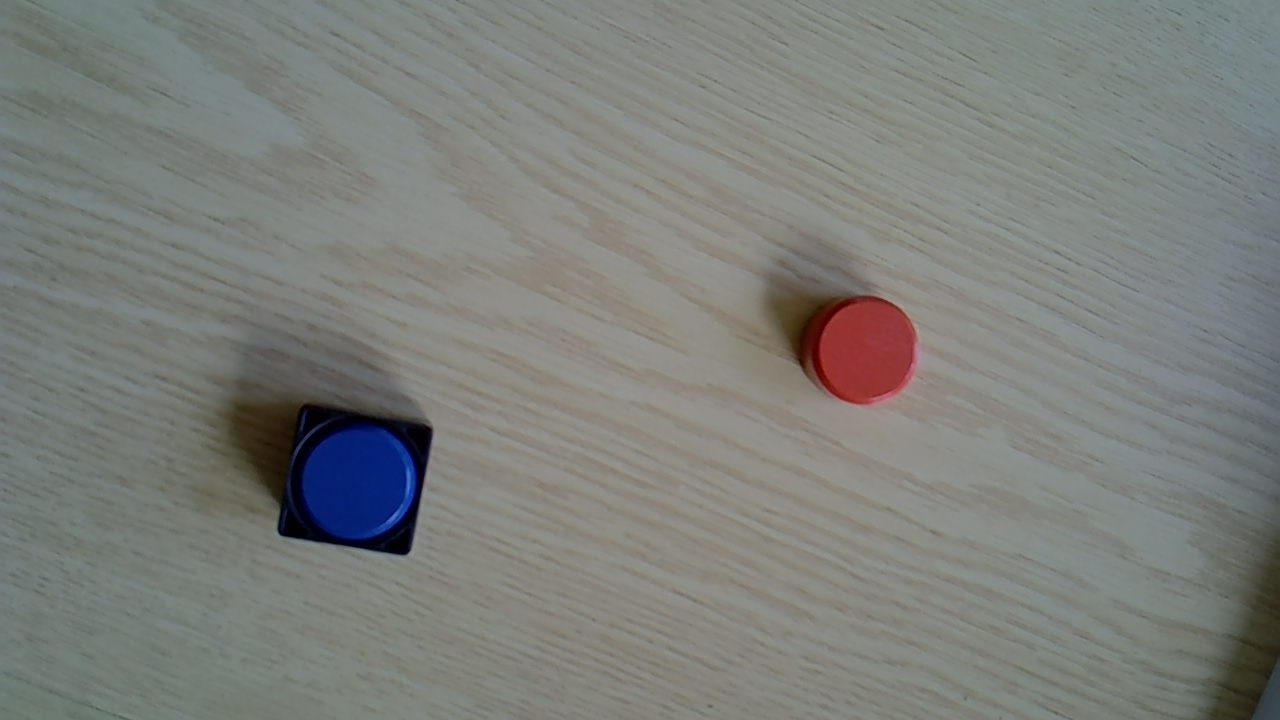Behaelter: (277, 402, 436, 560)
WerkStueck: (297, 424, 419, 543), (797, 294, 920, 408)
